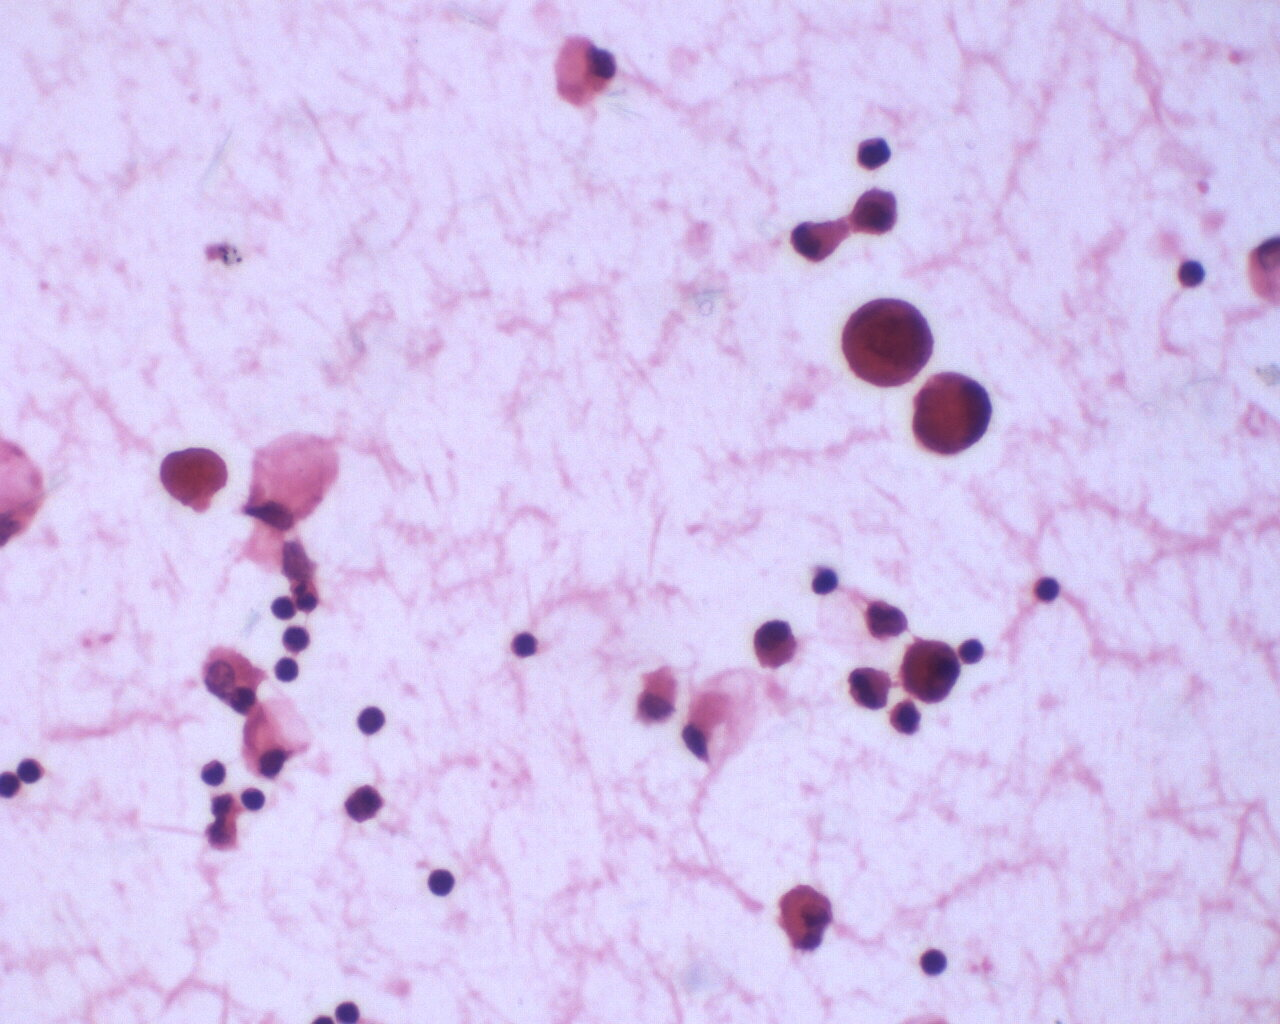ab: (843, 287, 933, 397), (895, 638, 967, 707)
lymph: (506, 625, 553, 668), (1171, 255, 1216, 295), (425, 861, 464, 906), (916, 942, 949, 985), (1027, 572, 1064, 608), (354, 703, 390, 740), (16, 751, 47, 791), (273, 653, 306, 689)
